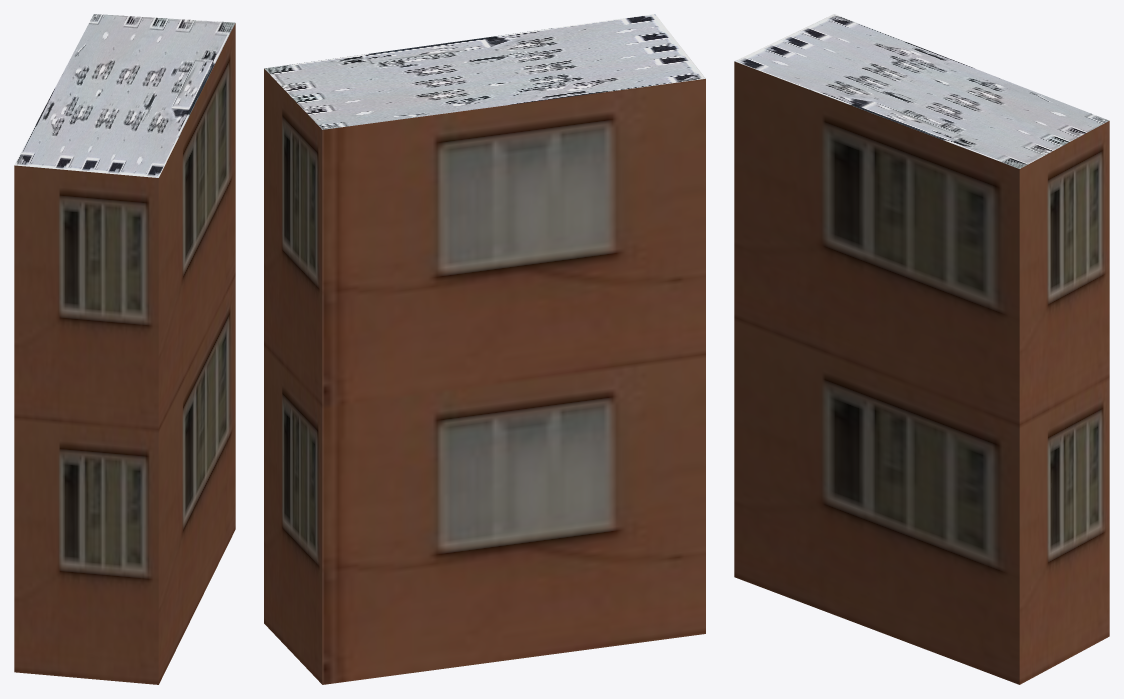
Rendered from ResTex__3518.fbx.
The picture shows the model from 3 angles, left to right: view 1: azimuth 30°, elevation 25°; view 2: azimuth 150°, elevation 25°; view 3: azimuth 270°, elevation 25°; orthographic projection. The views are drawn at different scales.
Visible parts, largest first — view 1: CityEngineMaterial_20_m, CityEngineMaterial_m; view 2: CityEngineMaterial_20_m, CityEngineMaterial_m; view 3: CityEngineMaterial_20_m, CityEngineMaterial_m.
Part boxes in pixels (left/top/right/bottom): CityEngineMaterial_20_m: left=14, top=23, right=235, bottom=684; CityEngineMaterial_m: left=14, top=14, right=235, bottom=177; CityEngineMaterial_20_m: left=264, top=68, right=705, bottom=684; CityEngineMaterial_m: left=264, top=14, right=705, bottom=129; CityEngineMaterial_20_m: left=734, top=61, right=1109, bottom=684; CityEngineMaterial_m: left=734, top=14, right=1108, bottom=168.
Bounding box in the file's own units: 3.87 × 6 × 3.96.
Materials: 2 (2 with a texture image).
